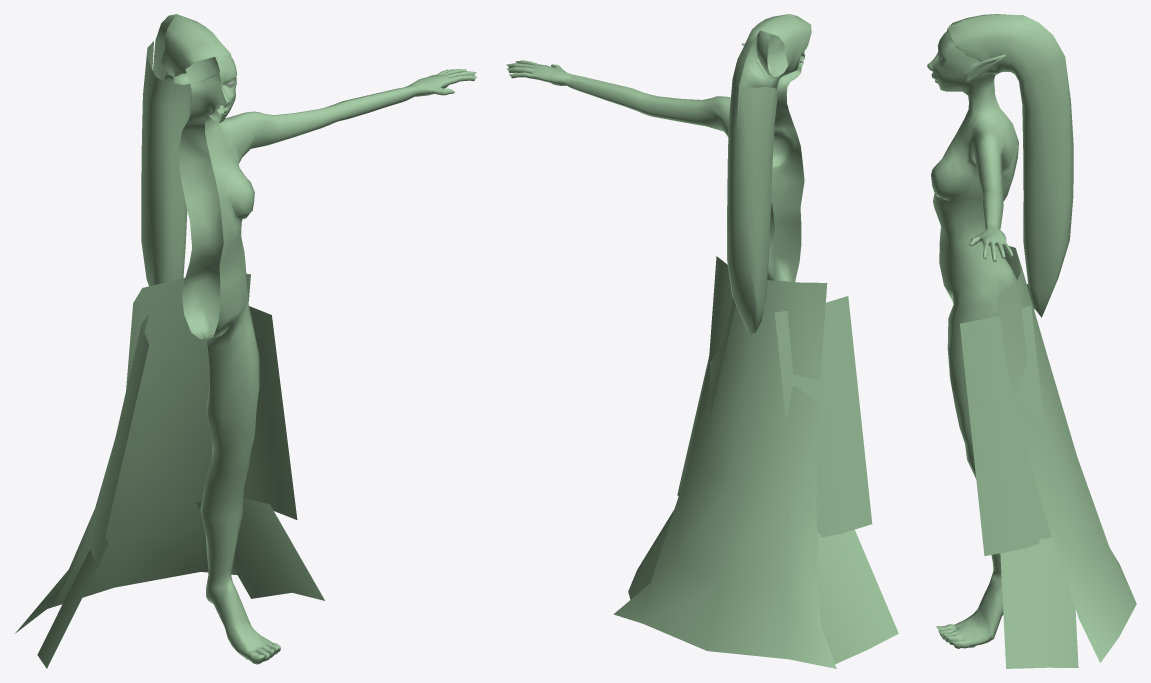
The model's file is shaman_UV.fbx.
The picture shows the model from 3 angles, left to right: view 1: azimuth 30°, elevation 25°; view 2: azimuth 150°, elevation 25°; view 3: azimuth 270°, elevation 25°; orthographic projection. The views are drawn at different scales.
Parts seen in each view (by area): view 1: shaman:polySurface3 shaman:polySurface5 shaman:polySurface13, shaman:butt_cape1 shaman:polySurface3 shaman:polySurface5 sh, shaman:polySurface3 shaman:polySurface5 shaman:polySurface10, shaman:pPlane14 shaman:polySurface3 shaman:polySurface5 sham, shaman:butt_cape3 shaman:polySurface3 shaman:polySurface4 sh, shaman:butt_cape4 shaman:polySurface3 shaman:polySurface5 sh, shaman:butt_cape5 shaman:polySurface3 shaman:polySurface5 sh; view 2: shaman:butt_cape1 shaman:polySurface3 shaman:polySurface5 sh, shaman:polySurface3 shaman:polySurface5 shaman:polySurface10, shaman:polySurface3 shaman:polySurface5 shaman:polySurface13, shaman:butt_cape4 shaman:polySurface3 shaman:polySurface5 sh, shaman:butt_cape5 shaman:polySurface3 shaman:polySurface5 sh, shaman:pPlane14 shaman:polySurface3 shaman:polySurface5 sham, shaman:butt_cape3 shaman:polySurface3 shaman:polySurface4 sh; view 3: shaman:polySurface3 shaman:polySurface5 shaman:polySurface13, shaman:butt_cape1 shaman:polySurface3 shaman:polySurface5 sh, shaman:pPlane14 shaman:polySurface3 shaman:polySurface5 sham, shaman:polySurface3 shaman:polySurface5 shaman:polySurface10, shaman:butt_cape3 shaman:polySurface3 shaman:polySurface4 sh.
Part boxes in pixels (left/top/right/bottom): shaman:polySurface3 shaman:polySurface5 shaman:polySurface13: left=155, top=14, right=476, bottom=664; shaman:butt_cape1 shaman:polySurface3 shaman:polySurface5 sh: left=15, top=273, right=250, bottom=633; shaman:polySurface3 shaman:polySurface5 shaman:polySurface10: left=141, top=14, right=230, bottom=286; shaman:pPlane14 shaman:polySurface3 shaman:polySurface5 sham: left=210, top=306, right=297, bottom=519; shaman:butt_cape3 shaman:polySurface3 shaman:polySurface4 sh: left=196, top=498, right=324, bottom=600; shaman:butt_cape4 shaman:polySurface3 shaman:polySurface5 sh: left=90, top=314, right=148, bottom=568; shaman:butt_cape5 shaman:polySurface3 shaman:polySurface5 sh: left=37, top=538, right=108, bottom=668; shaman:butt_cape1 shaman:polySurface3 shaman:polySurface5 sh: left=613, top=256, right=836, bottom=668; shaman:polySurface3 shaman:polySurface5 shaman:polySurface10: left=727, top=14, right=811, bottom=333; shaman:polySurface3 shaman:polySurface5 shaman:polySurface13: left=506, top=30, right=806, bottom=281; shaman:butt_cape4 shaman:polySurface3 shaman:polySurface5 sh: left=774, top=296, right=872, bottom=536; shaman:butt_cape5 shaman:polySurface3 shaman:polySurface5 sh: left=817, top=529, right=898, bottom=664; shaman:pPlane14 shaman:polySurface3 shaman:polySurface5 sham: left=677, top=297, right=735, bottom=496; shaman:butt_cape3 shaman:polySurface3 shaman:polySurface4 sh: left=628, top=509, right=674, bottom=599; shaman:polySurface3 shaman:polySurface5 shaman:polySurface13: left=927, top=15, right=1064, bottom=648; shaman:butt_cape1 shaman:polySurface3 shaman:polySurface5 sh: left=996, top=246, right=1136, bottom=662; shaman:pPlane14 shaman:polySurface3 shaman:polySurface5 sham: left=960, top=305, right=1052, bottom=556; shaman:polySurface3 shaman:polySurface5 shaman:polySurface10: left=947, top=14, right=1073, bottom=317; shaman:butt_cape3 shaman:polySurface3 shaman:polySurface4 sh: left=1000, top=537, right=1078, bottom=668.
Bounding box in the file's own units: 553 × 789 × 248.
